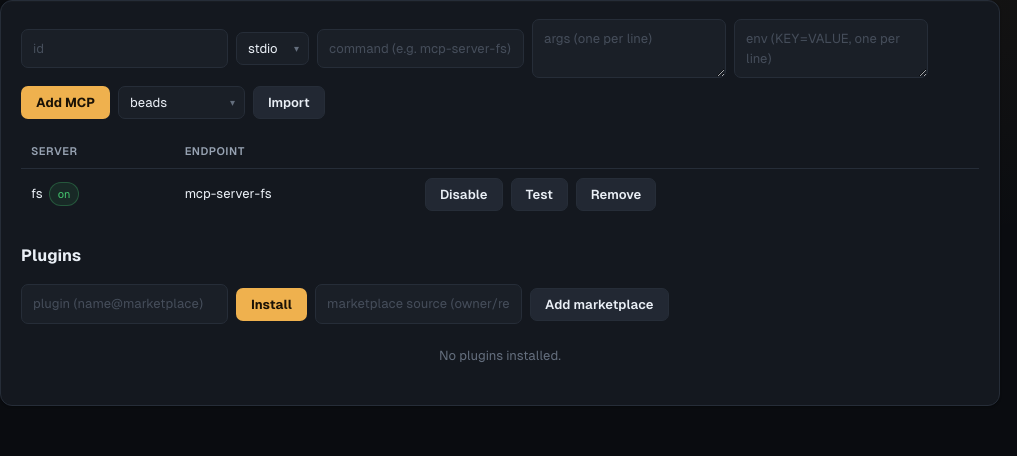
Test: Connectors status feedback › shows the import result after Import
This screenshot has width=1017, height=456.
Click the button "Import" at (289, 102), box [253, 86, 325, 119]
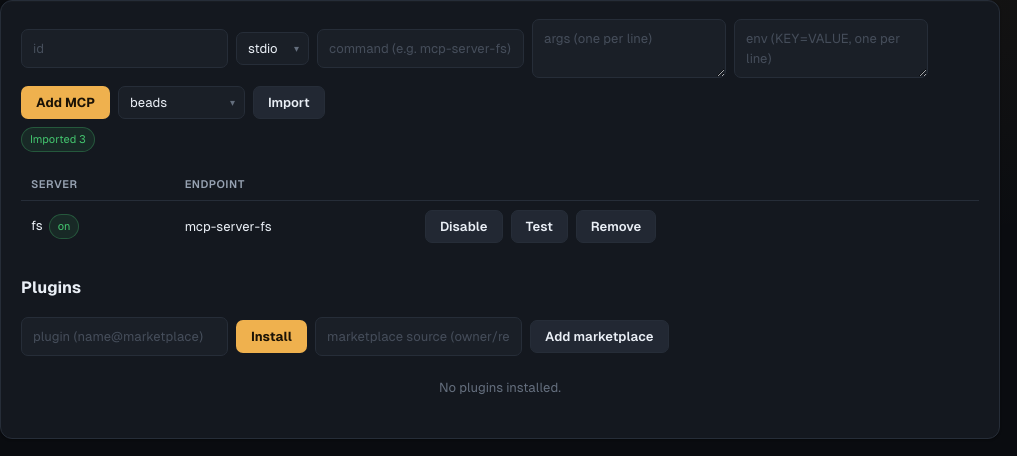
Now the text "Imported 3" is shown, box [21, 127, 95, 152]
